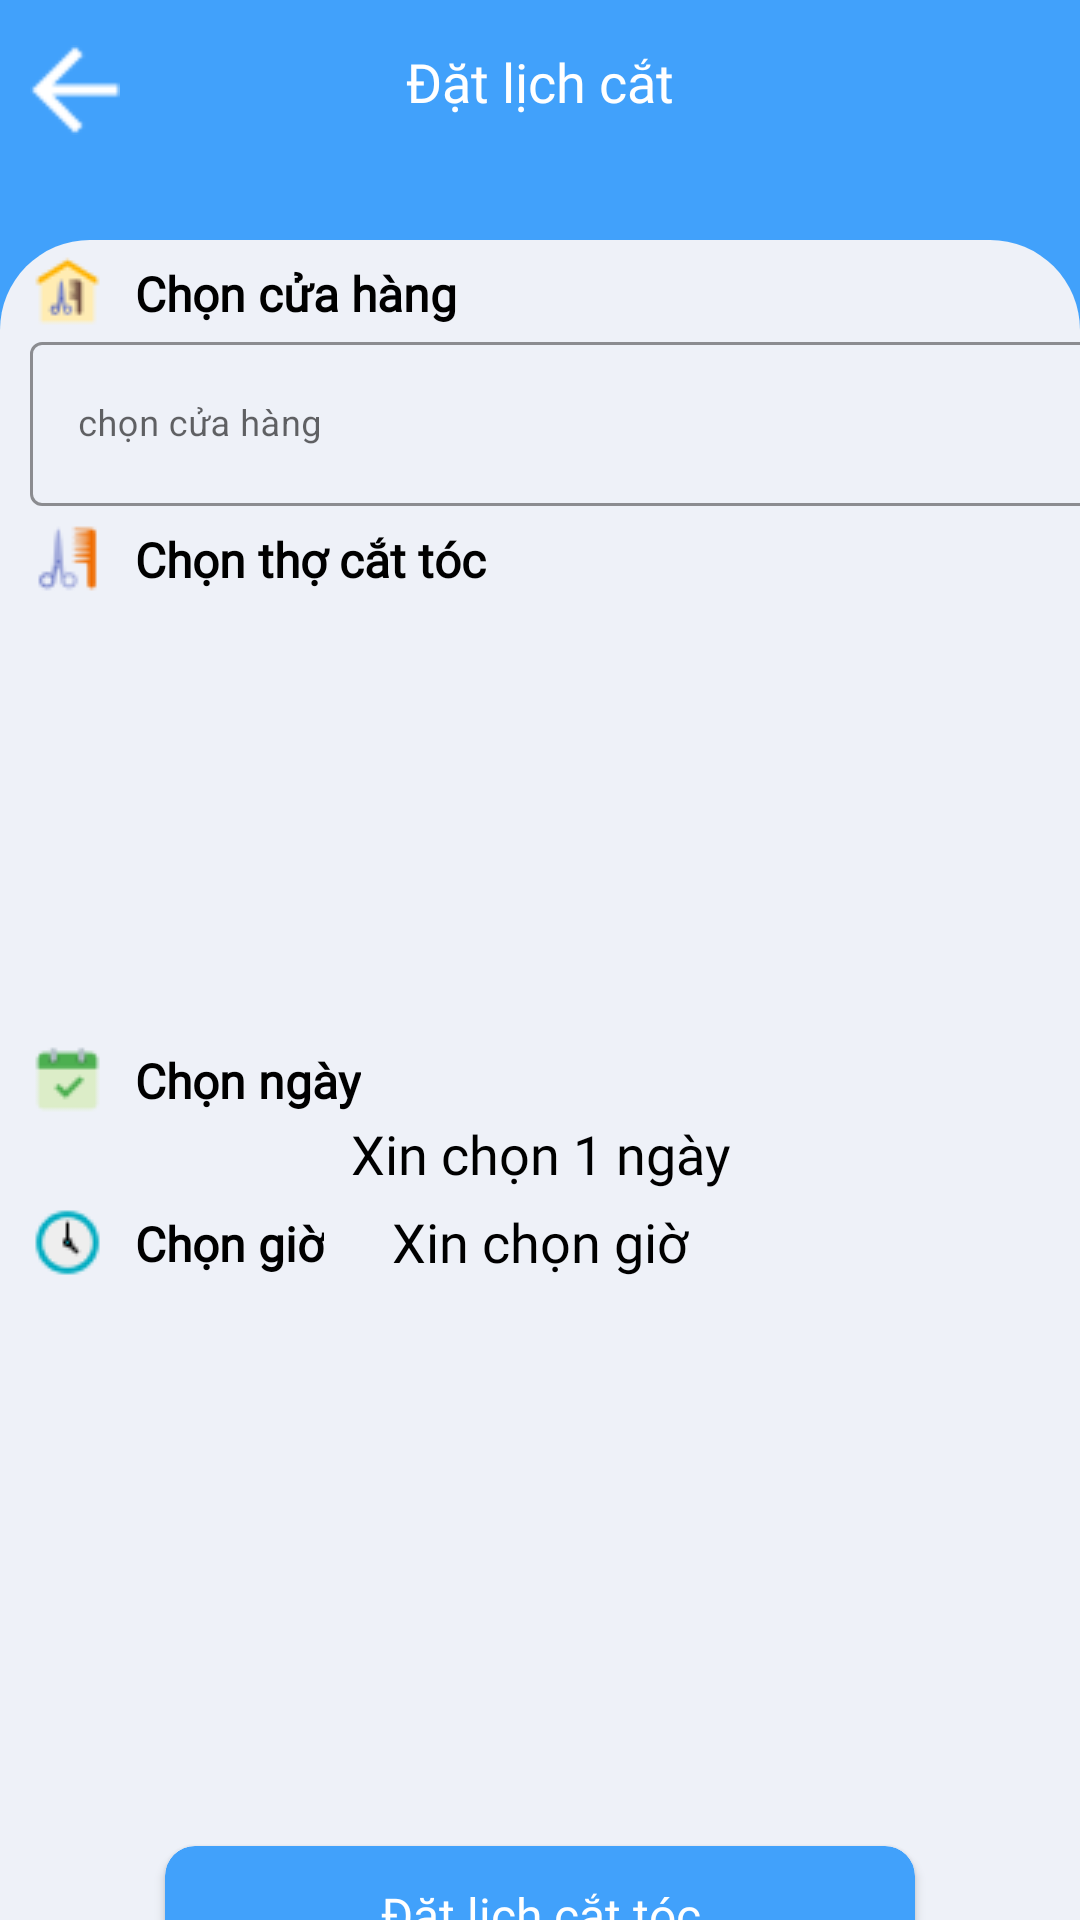

Point at icon controls on the screen. Image size 1080px x 1920px, points as point (x, y).
arrow back: point (76, 90)
pick day: point (67, 1078)
pick hairdresser: point (67, 558)
pick hour: point (67, 1242)
pick store: point (67, 290)
